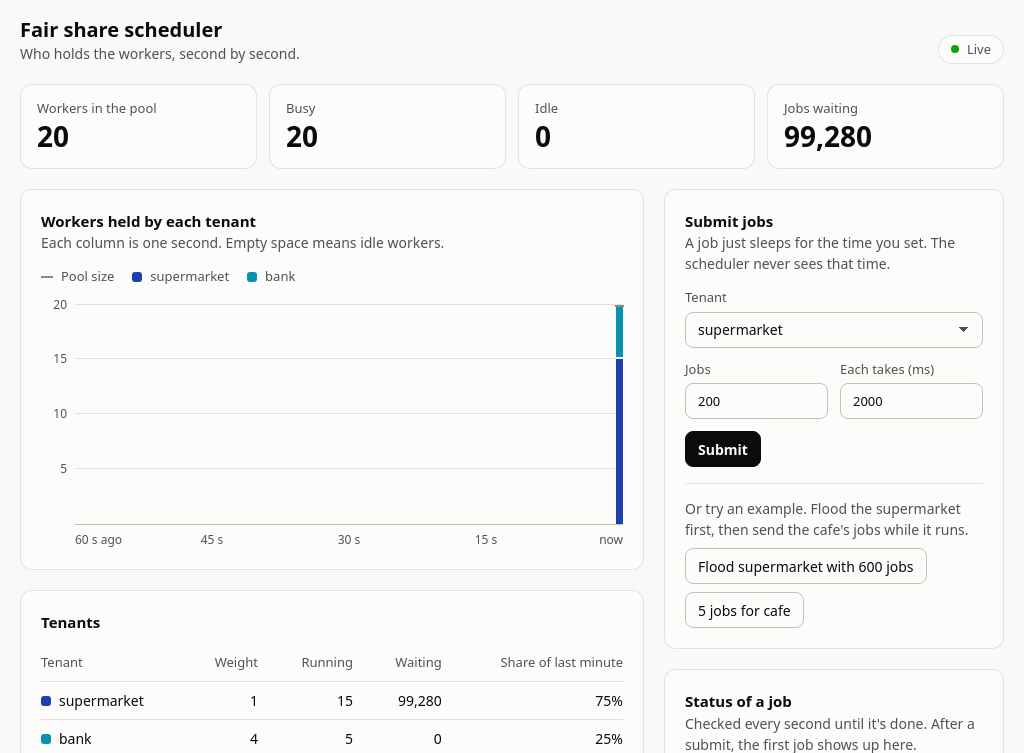
Test: the page › a batch that was submitted shows its first job in the status panel
This screenshot has width=1024, height=753.
Expected: the text "Live" is shown, [938,34,1004,64]
Step 1. Click the dropdown named "Tenant" → coordinates (834, 330), box [685,312,983,348]
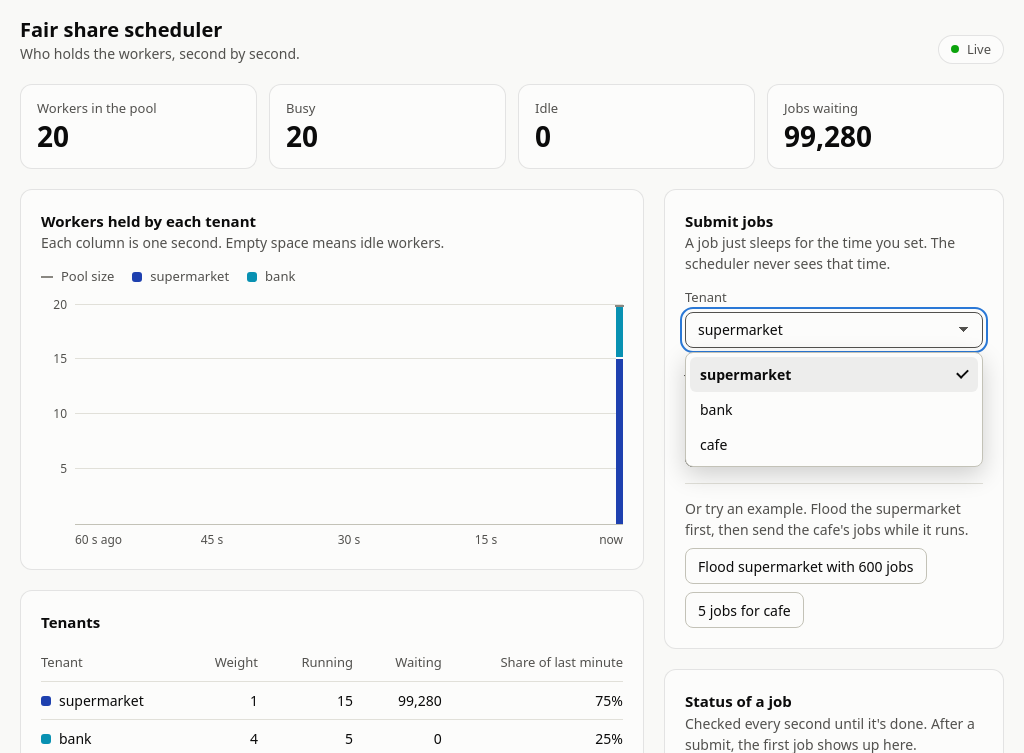
Step 2. Click the option "cafe" → coordinates (714, 444), box [700,434,727,454]
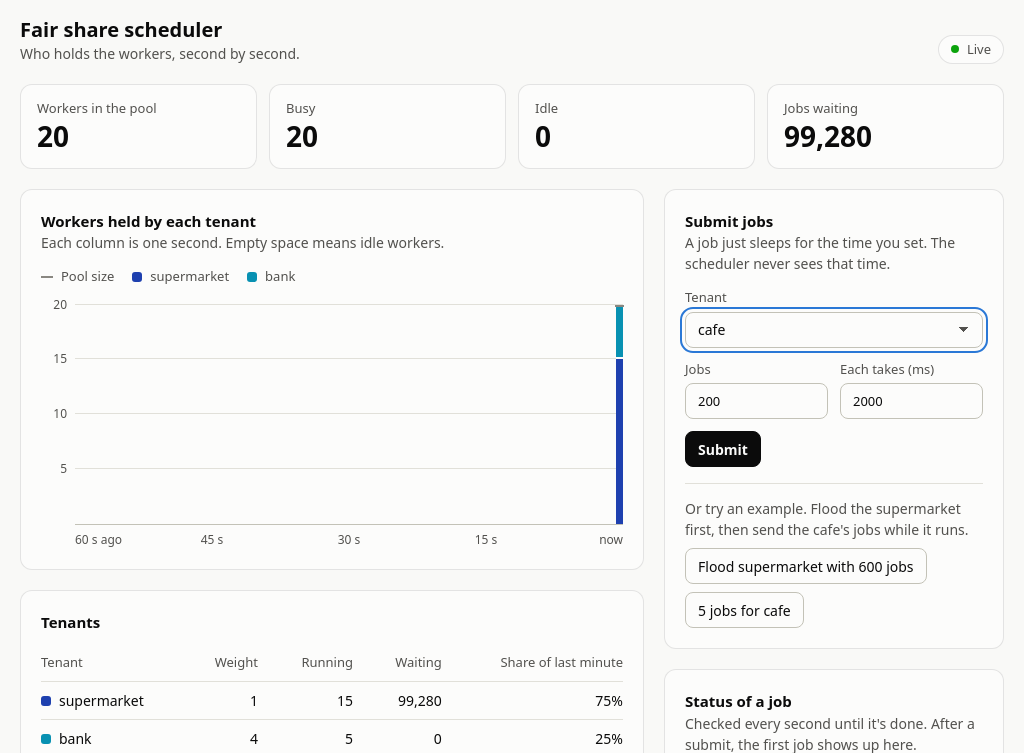
Step 3. Replace the text in the number field labelled "Jobs" with "3" → coordinates (756, 401), box [685,383,828,419]
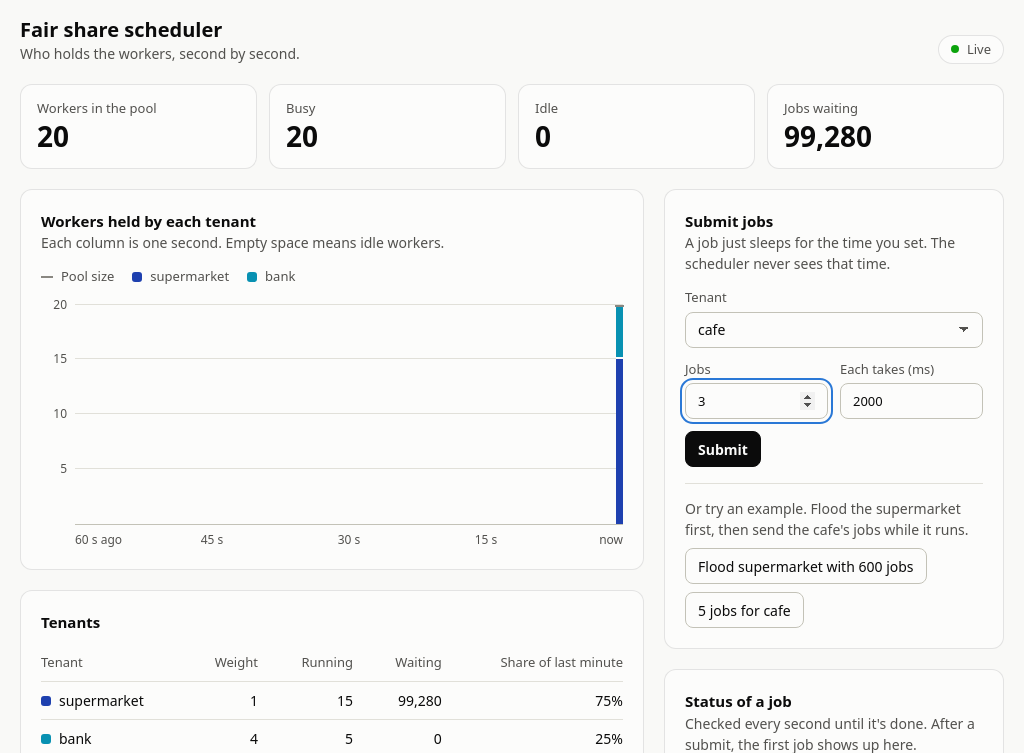
Step 4. Click the button "Submit" → coordinates (723, 449), box [685,431,761,467]
(page scrolled)
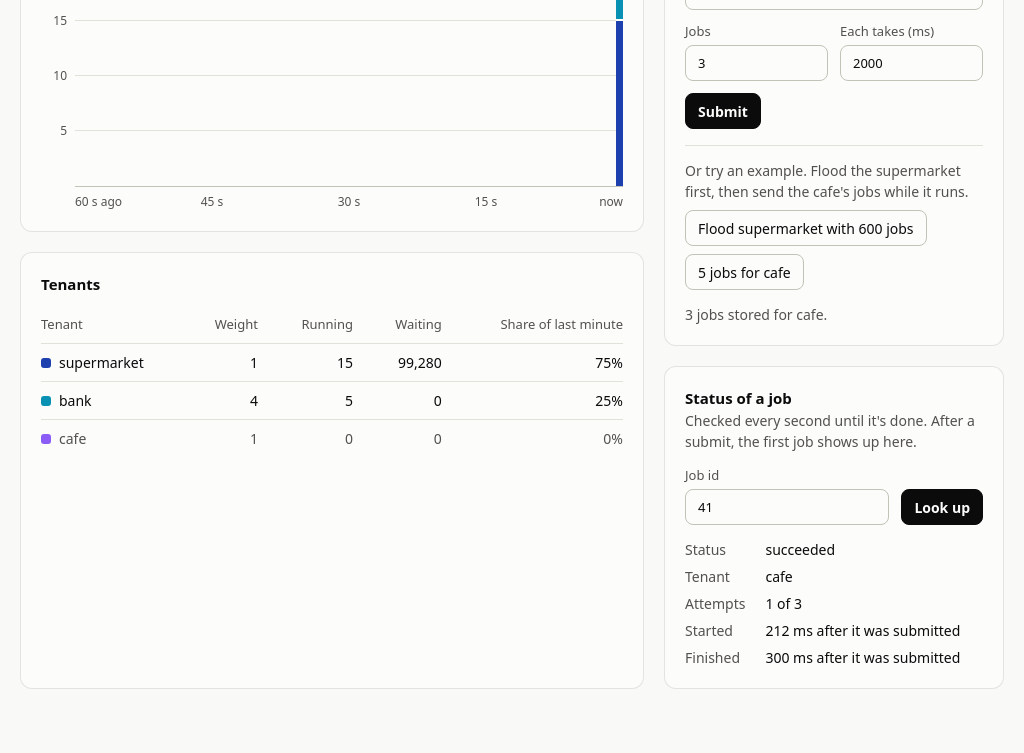
Result: the text "3 jobs stored for cafe." is shown at [685,305,827,324]
Result: the text "212 ms after it was submitted" is shown at [765,620,983,641]
Result: the field labelled "Job id" holds "41" at [685,489,889,525]
